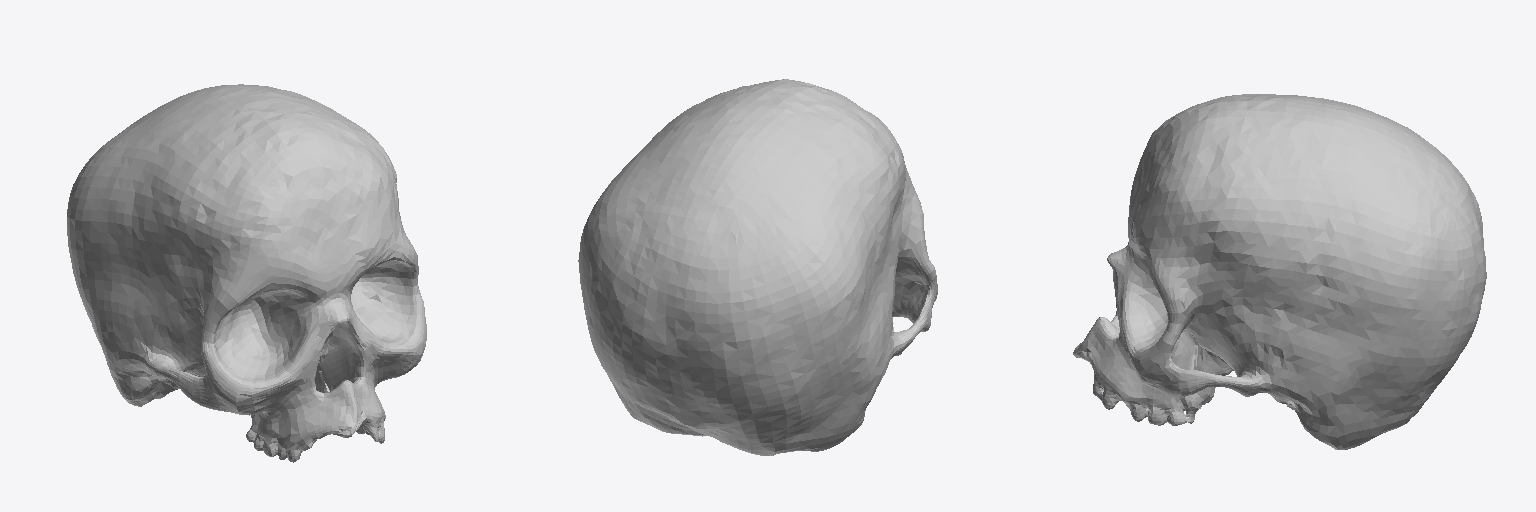
File: Skull_1.obj
The picture shows the model from 3 angles: view 1: azimuth 30°, elevation 25°; view 2: azimuth 150°, elevation 25°; view 3: azimuth 270°, elevation 25°; orthographic projection.
Parts seen in each view (by area): view 1: Skull_1_CM_Skull_1.002; view 2: Skull_1_CM_Skull_1.002; view 3: Skull_1_CM_Skull_1.002.
Part boxes in pixels (left/top/right/bottom): Skull_1_CM_Skull_1.002: left=67, top=84, right=426, bottom=462; Skull_1_CM_Skull_1.002: left=578, top=79, right=937, bottom=455; Skull_1_CM_Skull_1.002: left=1073, top=94, right=1486, bottom=449.
Size of the model in its own units: 10.01 by 10.97 by 13.54.